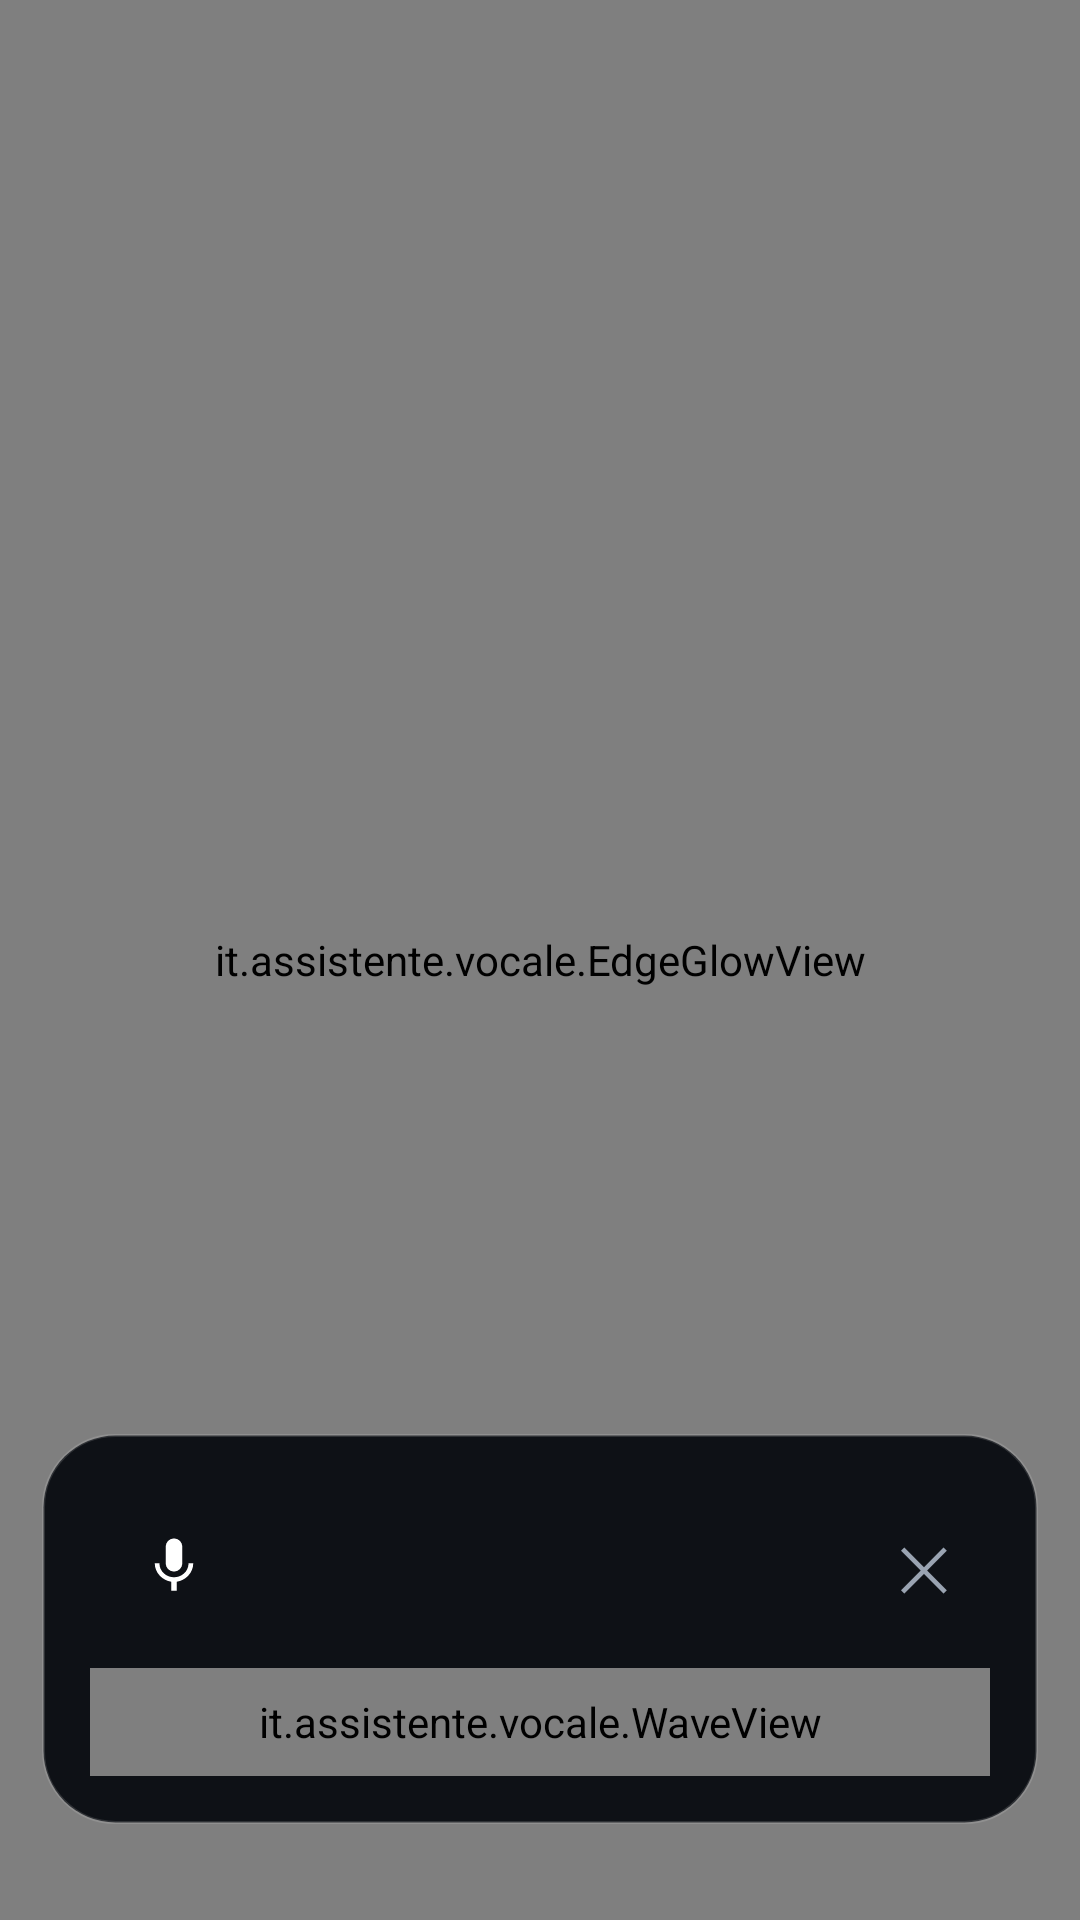

Icon bounding boxes for this 1080 × 1920 phone screenshot, format (x1, y1, x2, y2):
mic: (154, 1538, 194, 1591)
